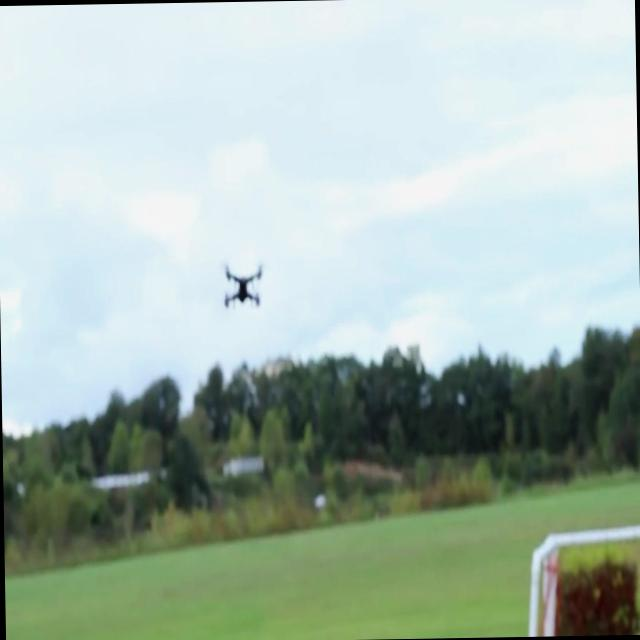drone: (218, 258, 268, 314)
